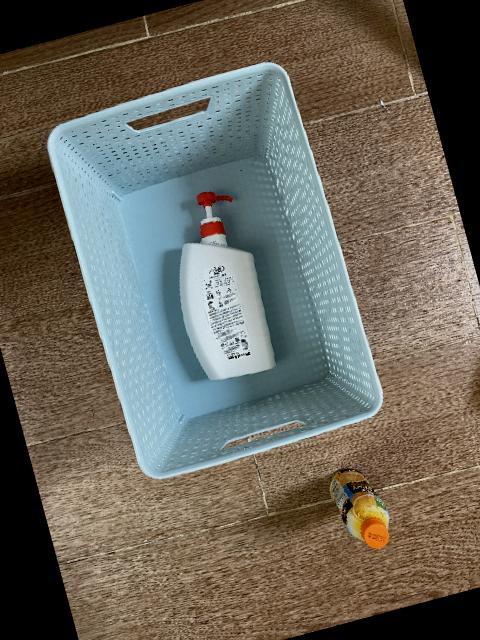cart: (44, 61, 381, 478)
life-buoy: (178, 190, 274, 379)
teppy_orange_juice: (327, 467, 388, 548)
